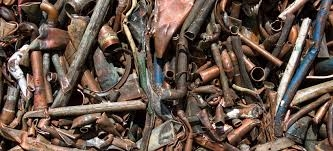metal: (271, 13, 323, 137), (14, 47, 60, 125), (31, 94, 163, 121), (144, 1, 192, 56), (201, 40, 238, 109), (158, 49, 191, 107), (228, 33, 257, 98), (183, 1, 222, 42), (88, 20, 126, 60), (171, 107, 199, 151), (57, 1, 102, 21)
